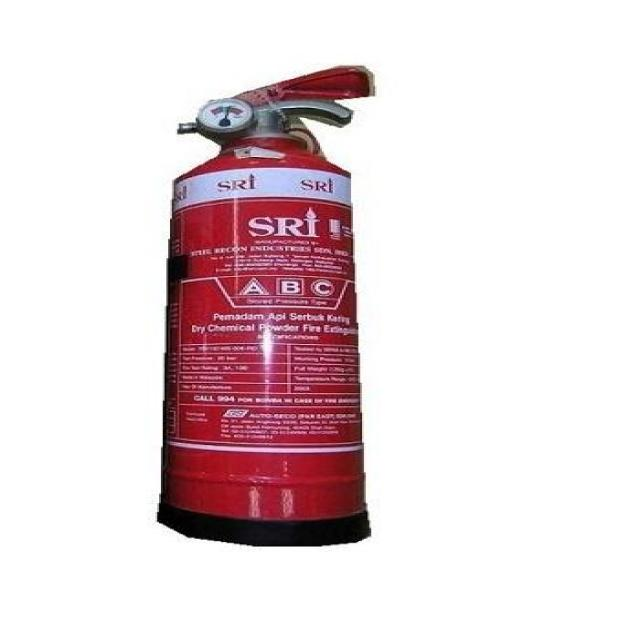fire_extinguisher: (145, 59, 383, 551)
